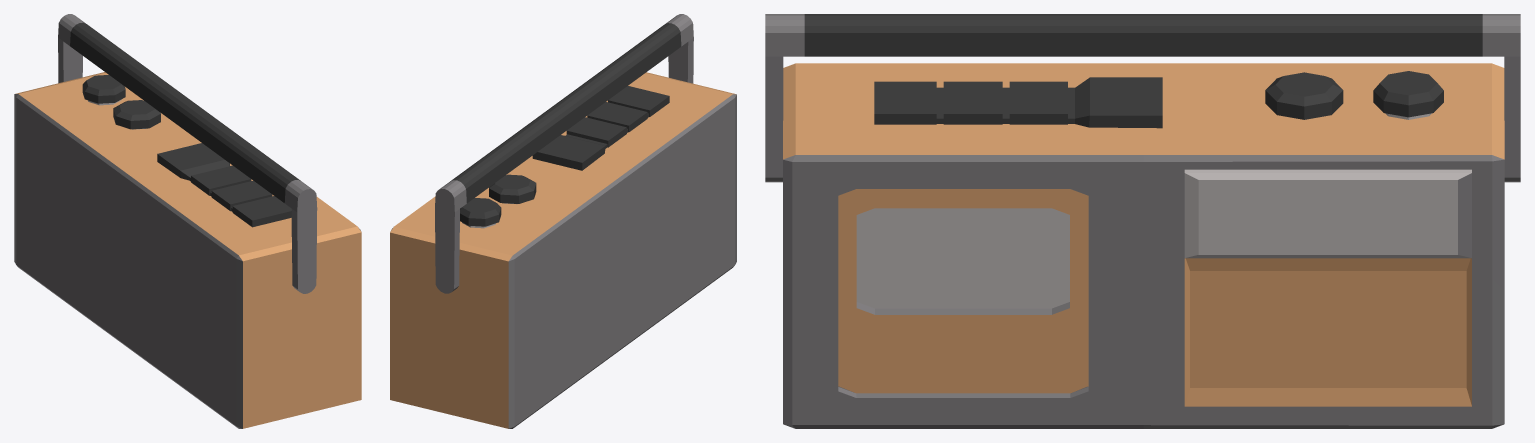
The model's file is Kasetcalar.fbx.
The picture shows the model from 3 angles, left to right: view 1: azimuth 30°, elevation 25°; view 2: azimuth 150°, elevation 25°; view 3: azimuth 270°, elevation 25°; orthographic projection. The views are drawn at different scales.
Parts seen in each view (by area): view 1: Cylinder.001; view 2: Cylinder.001; view 3: Cylinder.001.
Boxes of the visible parts, x1,y1,x2,y2 form: Cylinder.001: (14, 14, 361, 428); Cylinder.001: (390, 14, 736, 428); Cylinder.001: (765, 14, 1520, 428).
Size of the model in its own units: 62.59 by 107 by 200.
